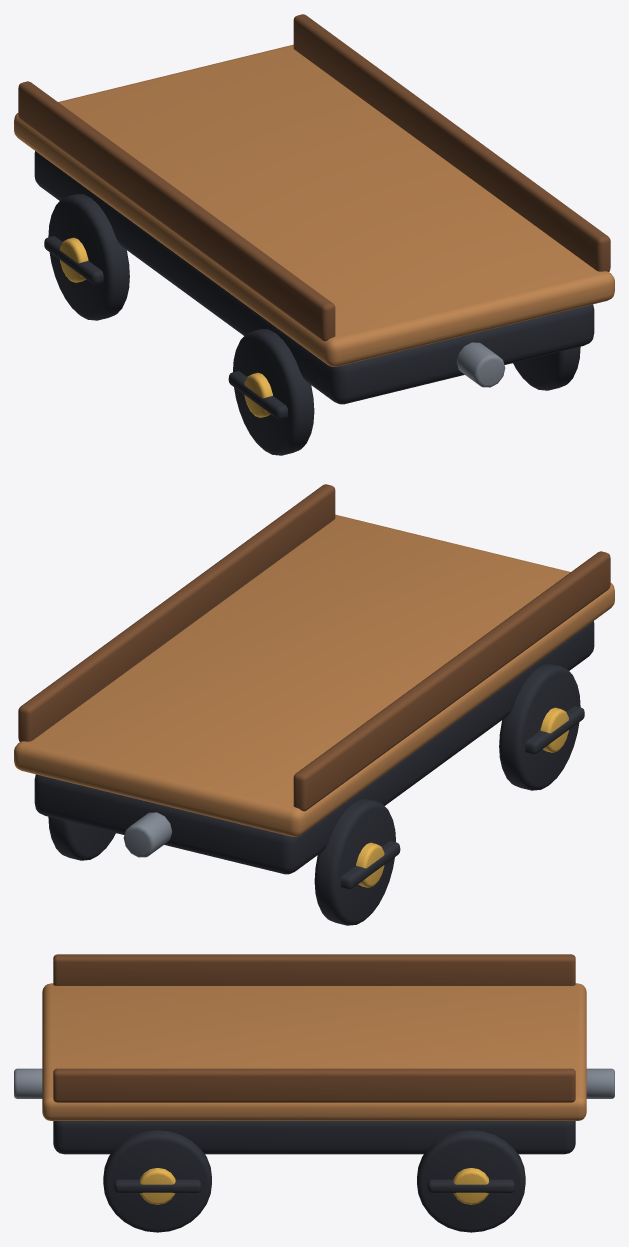
The model's file is vagao.glb.
3 views of the same model, one above another, from view 1: azimuth 30°, elevation 25°; view 2: azimuth 150°, elevation 25°; view 3: azimuth 270°, elevation 25° (orthographic). The views are drawn at different scales.
Visible parts, largest first — view 1: vagao_piso, Cube, Cube.001, Cube.002, Cylinder.004, Cylinder.002, Cylinder.006, Cylinder, Cube.004, Cube.003, Cylinder.003, Cylinder.005; view 2: vagao_piso, Cube, Cube.001, Cube.002, Cylinder.002, Cylinder.004, Cylinder.008, Cylinder.001, Cube.003, Cube.004, Cylinder.005, Cylinder.003; view 3: vagao_piso, Cube.002, Cube.001, Cube, Cylinder.006, Cylinder.008, Cube.005, Cube.006, Cylinder, Cylinder.001, Cylinder.007, Cylinder.009.
Part boxes in pixels (left/top/right/bottom): vagao_piso: left=14, top=44, right=614, bottom=366; Cube: left=34, top=151, right=594, bottom=404; Cube.001: left=18, top=81, right=335, bottom=341; Cube.002: left=293, top=14, right=610, bottom=271; Cylinder.004: left=48, top=193, right=129, bottom=320; Cylinder.002: left=233, top=329, right=314, bottom=455; Cylinder.006: left=513, top=346, right=580, bottom=390; Cylinder: left=456, top=342, right=505, bottom=387; Cube.004: left=44, top=236, right=103, bottom=284; Cube.003: left=228, top=371, right=287, bottom=419; Cylinder.003: left=244, top=372, right=272, bottom=417; Cylinder.005: left=60, top=237, right=88, bottom=282; vagao_piso: left=14, top=514, right=614, bottom=836; Cube: left=34, top=621, right=594, bottom=874; Cube.001: left=293, top=551, right=610, bottom=811; Cube.002: left=18, top=484, right=335, bottom=741; Cylinder.002: left=499, top=663, right=580, bottom=790; Cylinder.004: left=314, top=799, right=395, bottom=925; Cylinder.008: left=48, top=816, right=115, bottom=860; Cylinder.001: left=123, top=812, right=172, bottom=857; Cube.003: left=525, top=706, right=584, bottom=754; Cube.004: left=341, top=841, right=400, bottom=889; Cylinder.005: left=356, top=842, right=384, bottom=887; Cylinder.003: left=540, top=707, right=568, bottom=752; vagao_piso: left=42, top=983, right=586, bottom=1120; Cube.002: left=53, top=1068, right=575, bottom=1102; Cube.001: left=53, top=954, right=575, bottom=985; Cube: left=53, top=1121, right=575, bottom=1154; Cylinder.006: left=103, top=1130, right=211, bottom=1232; Cylinder.008: left=417, top=1130, right=525, bottom=1232; Cube.005: left=114, top=1179, right=201, bottom=1193; Cube.006: left=427, top=1179, right=514, bottom=1193; Cylinder: left=14, top=1068, right=42, bottom=1098; Cylinder.001: left=586, top=1068, right=614, bottom=1098; Cylinder.007: left=140, top=1168, right=175, bottom=1204; Cylinder.009: left=453, top=1168, right=488, bottom=1204.
Size of the model in its own units: 1.39 by 0.82 by 2.76.
